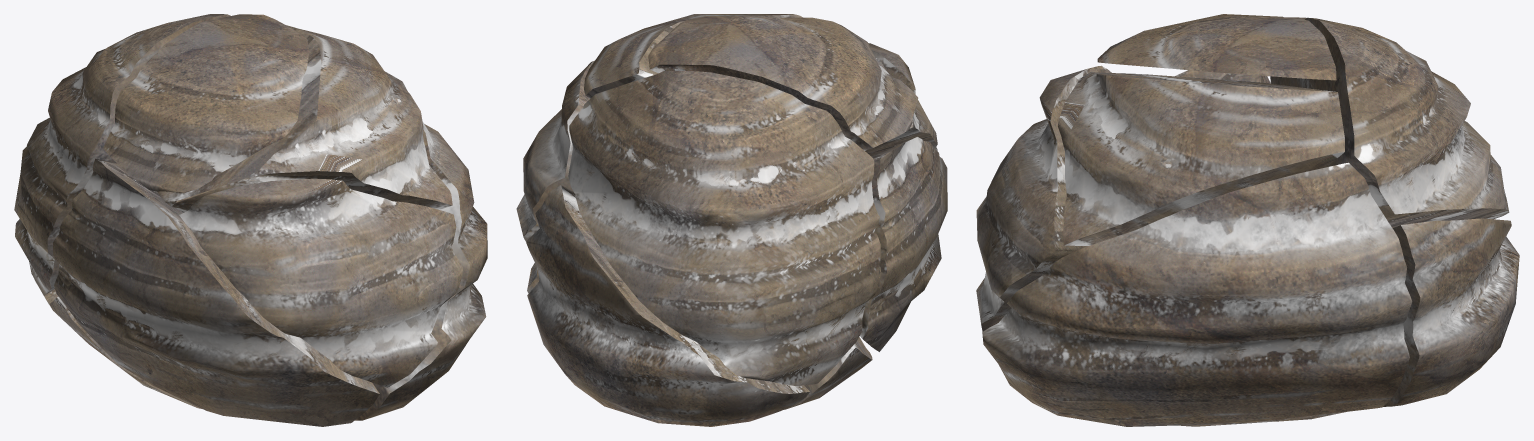
The model's file is SM_MetalNode_5_Pieces.fbx.
3 views of the same model, side by side, from view 1: azimuth 30°, elevation 25°; view 2: azimuth 150°, elevation 25°; view 3: azimuth 270°, elevation 25° (orthographic). The views are drawn at different scales.
Visible parts, largest first — view 1: SM_MetalNode_5_Pieces_cell_1, SM_MetalNode_5_Pieces_cell_5, SM_MetalNode_5_Pieces_cell_3, SM_MetalNode_5_Pieces_cell_7, SM_MetalNode_5_Pieces_cell_2, SM_MetalNode_5_Pieces_cell_8, SM_MetalNode_5_Pieces_cell_4; view 2: SM_MetalNode_5_Pieces_cell_2, SM_MetalNode_5_Pieces_cell_6, SM_MetalNode_5_Pieces_cell_3, SM_MetalNode_5_Pieces_cell_1, SM_MetalNode_5_Pieces_cell_8, SM_MetalNode_5_Pieces_cell_7, SM_MetalNode_5_Pieces_cell_5, SM_MetalNode_5_Pieces_cell_4; view 3: SM_MetalNode_5_Pieces_cell_8, SM_MetalNode_5_Pieces_cell_7, SM_MetalNode_5_Pieces_cell_2, SM_MetalNode_5_Pieces_cell_6, SM_MetalNode_5_Pieces_cell_5, SM_MetalNode_5_Pieces_cell_3, SM_MetalNode_5_Pieces_cell_1.
Boxes of the visible parts, box(x1,y1,x2,y2) form: SM_MetalNode_5_Pieces_cell_1: box(53, 158, 379, 426); SM_MetalNode_5_Pieces_cell_5: box(179, 178, 462, 387); SM_MetalNode_5_Pieces_cell_3: box(103, 14, 309, 193); SM_MetalNode_5_Pieces_cell_7: box(157, 25, 452, 211); SM_MetalNode_5_Pieces_cell_2: box(14, 14, 230, 295); SM_MetalNode_5_Pieces_cell_8: box(355, 71, 487, 420); SM_MetalNode_5_Pieces_cell_4: box(49, 296, 201, 408); SM_MetalNode_5_Pieces_cell_2: box(568, 71, 881, 385); SM_MetalNode_5_Pieces_cell_6: box(526, 185, 809, 426); SM_MetalNode_5_Pieces_cell_3: box(648, 15, 918, 150); SM_MetalNode_5_Pieces_cell_1: box(860, 137, 947, 351); SM_MetalNode_5_Pieces_cell_8: box(516, 60, 594, 293); SM_MetalNode_5_Pieces_cell_7: box(584, 14, 913, 128); SM_MetalNode_5_Pieces_cell_5: box(865, 43, 937, 156); SM_MetalNode_5_Pieces_cell_4: box(784, 337, 872, 409); SM_MetalNode_5_Pieces_cell_8: box(982, 162, 1412, 426); SM_MetalNode_5_Pieces_cell_7: box(1058, 72, 1344, 245); SM_MetalNode_5_Pieces_cell_2: box(1270, 17, 1509, 227); SM_MetalNode_5_Pieces_cell_6: box(1383, 218, 1519, 406); SM_MetalNode_5_Pieces_cell_5: box(976, 65, 1111, 331); SM_MetalNode_5_Pieces_cell_3: box(1097, 14, 1336, 80); SM_MetalNode_5_Pieces_cell_1: box(1175, 70, 1270, 83).
Bounding box in the file's own units: 0.7935 × 0.7208 × 0.9573.
